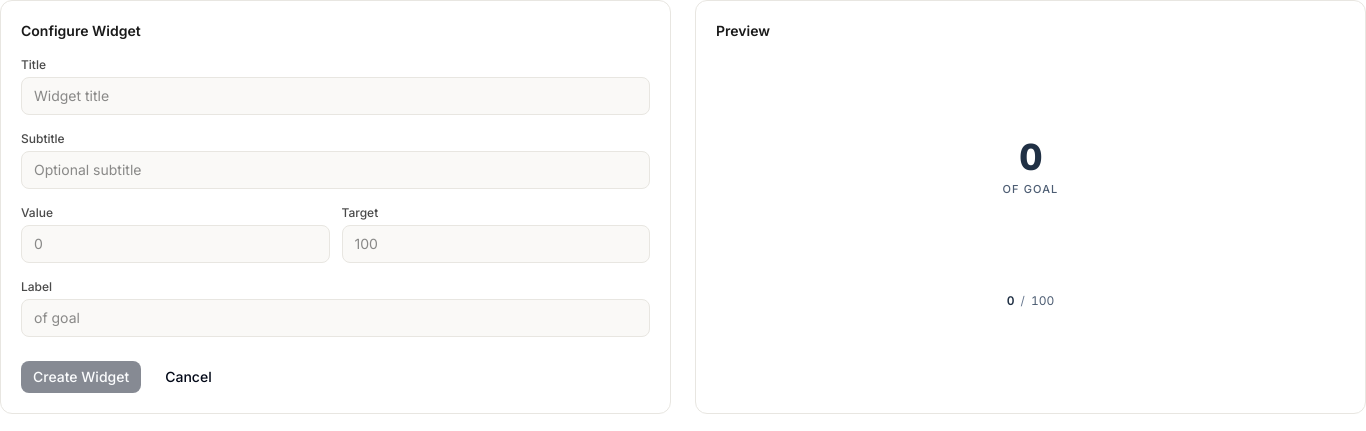
Test: WidgetConfigPanel › enables Create Widget button after entering title
Type "My Widget" into the field with placeholder "Widget title". click: (336, 96)
box: [21, 77, 650, 115]
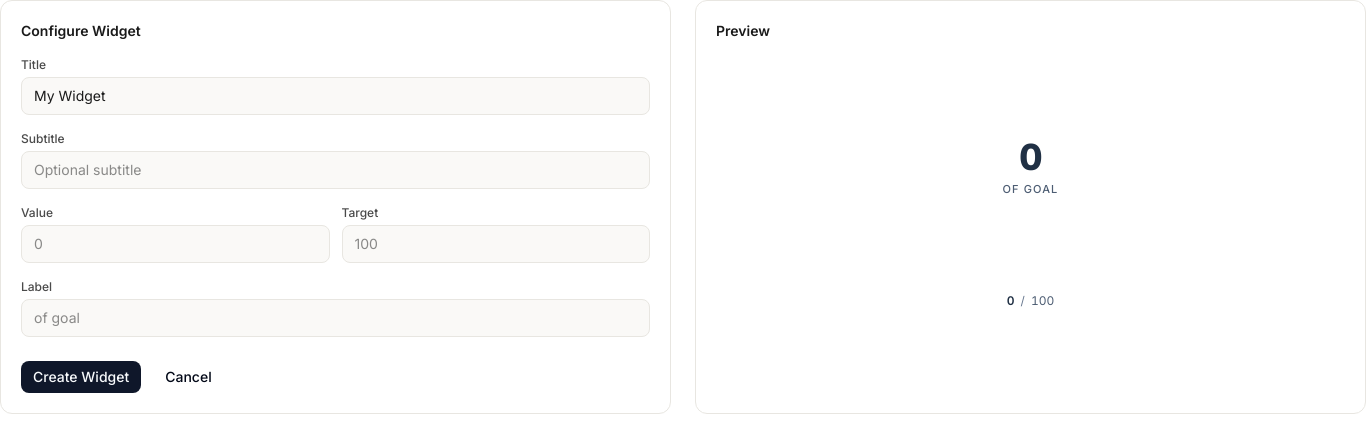
Now the button "Create Widget" is enabled, box [21, 361, 141, 393]
